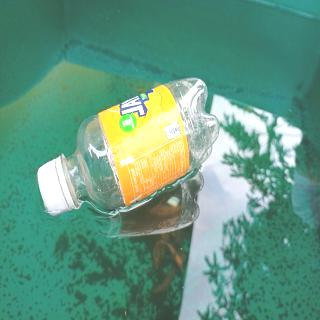bottle: (35, 75, 221, 216)
